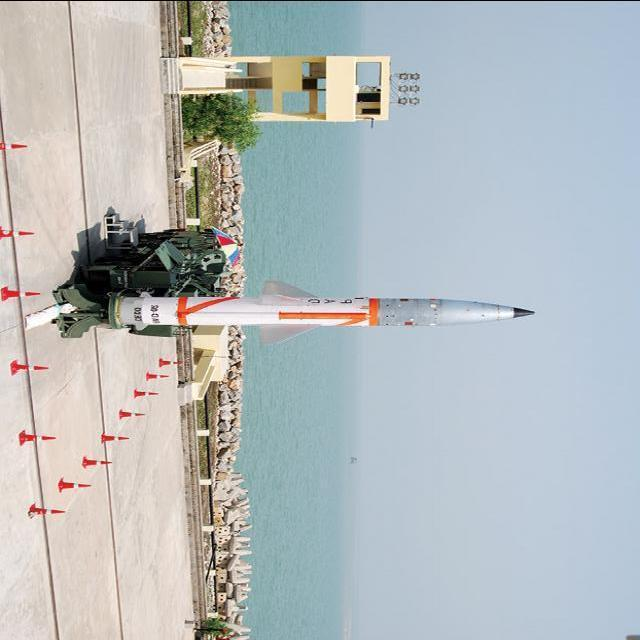missile: (108, 292, 539, 330)
